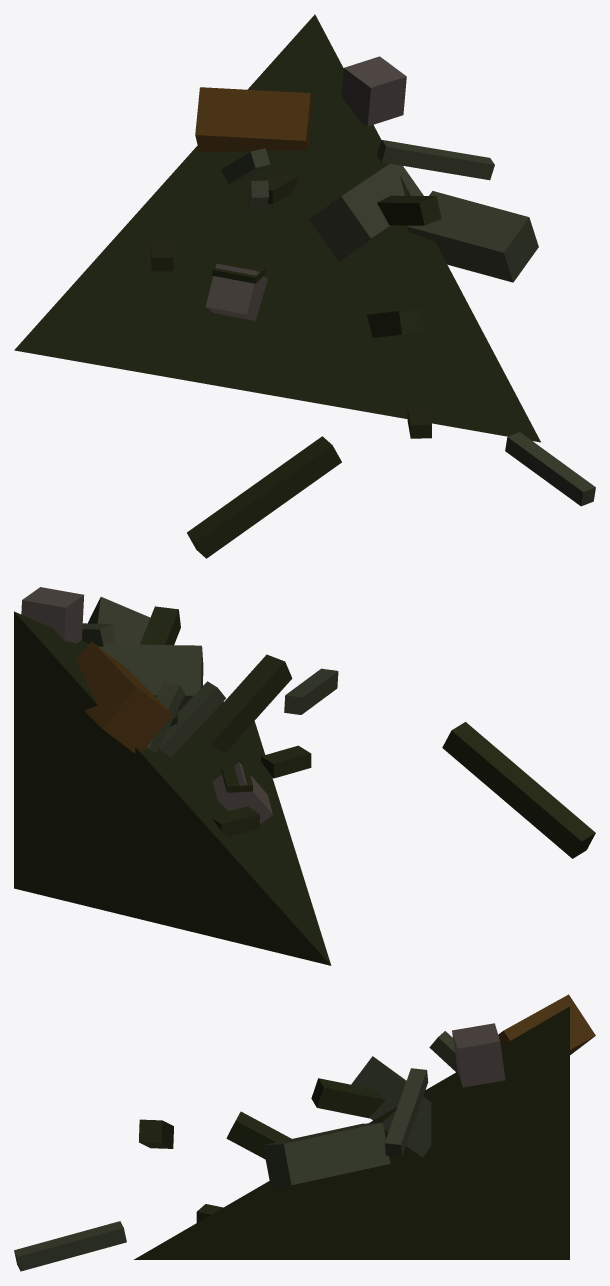
The model's file is SM_PilaZombi_RemateIzq_Altura2_s0_LOD0.fbx.
The picture shows the model from 3 angles, top to bottom: view 1: azimuth 30°, elevation 25°; view 2: azimuth 150°, elevation 25°; view 3: azimuth 270°, elevation 25°; orthographic projection. The views are drawn at different scales.
Visible parts, largest first — view 1: SM_pila_zombis_v1_LOD0; view 2: SM_pila_zombis_v1_LOD0; view 3: SM_pila_zombis_v1_LOD0.
Part boxes in pixels (x1,y1,x2,y2): SM_pila_zombis_v1_LOD0: (14,14,595,558); SM_pila_zombis_v1_LOD0: (14,587,595,965); SM_pila_zombis_v1_LOD0: (14,994,595,1271).
Size of the model in its own units: 2.27 by 1.57 by 2.81.
